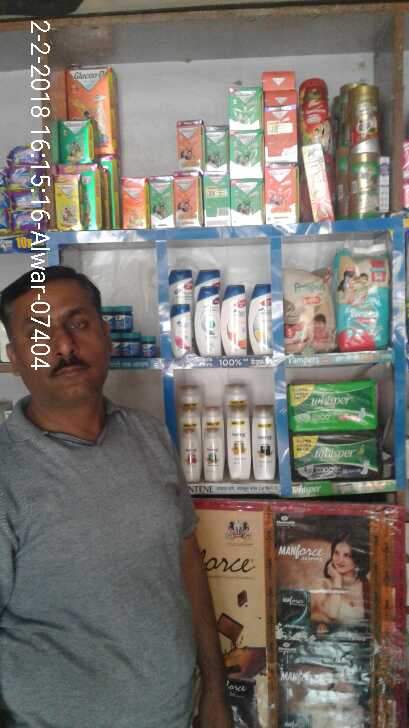vicks: (105, 300, 158, 357)
